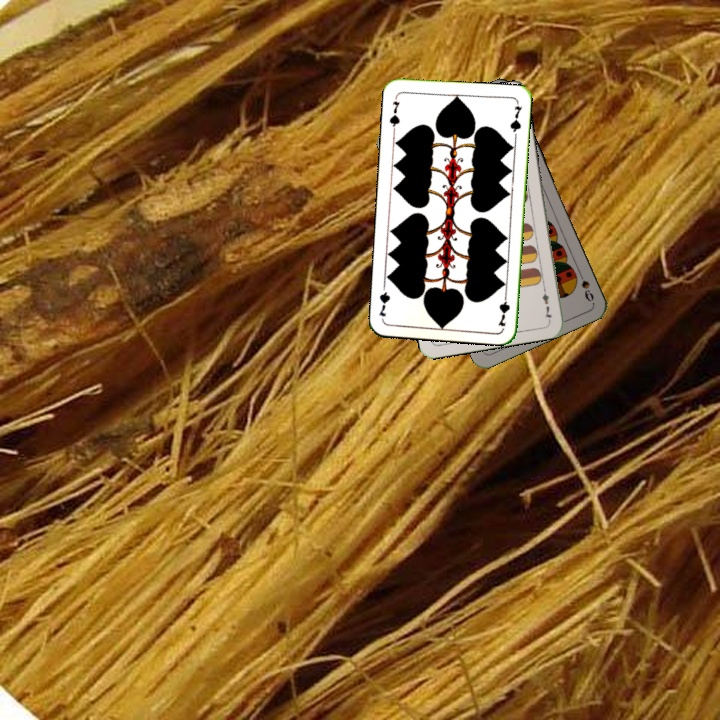E7: (538, 282, 554, 323)
G7: (494, 288, 512, 329), (385, 97, 402, 133)
S9: (573, 266, 596, 304)
